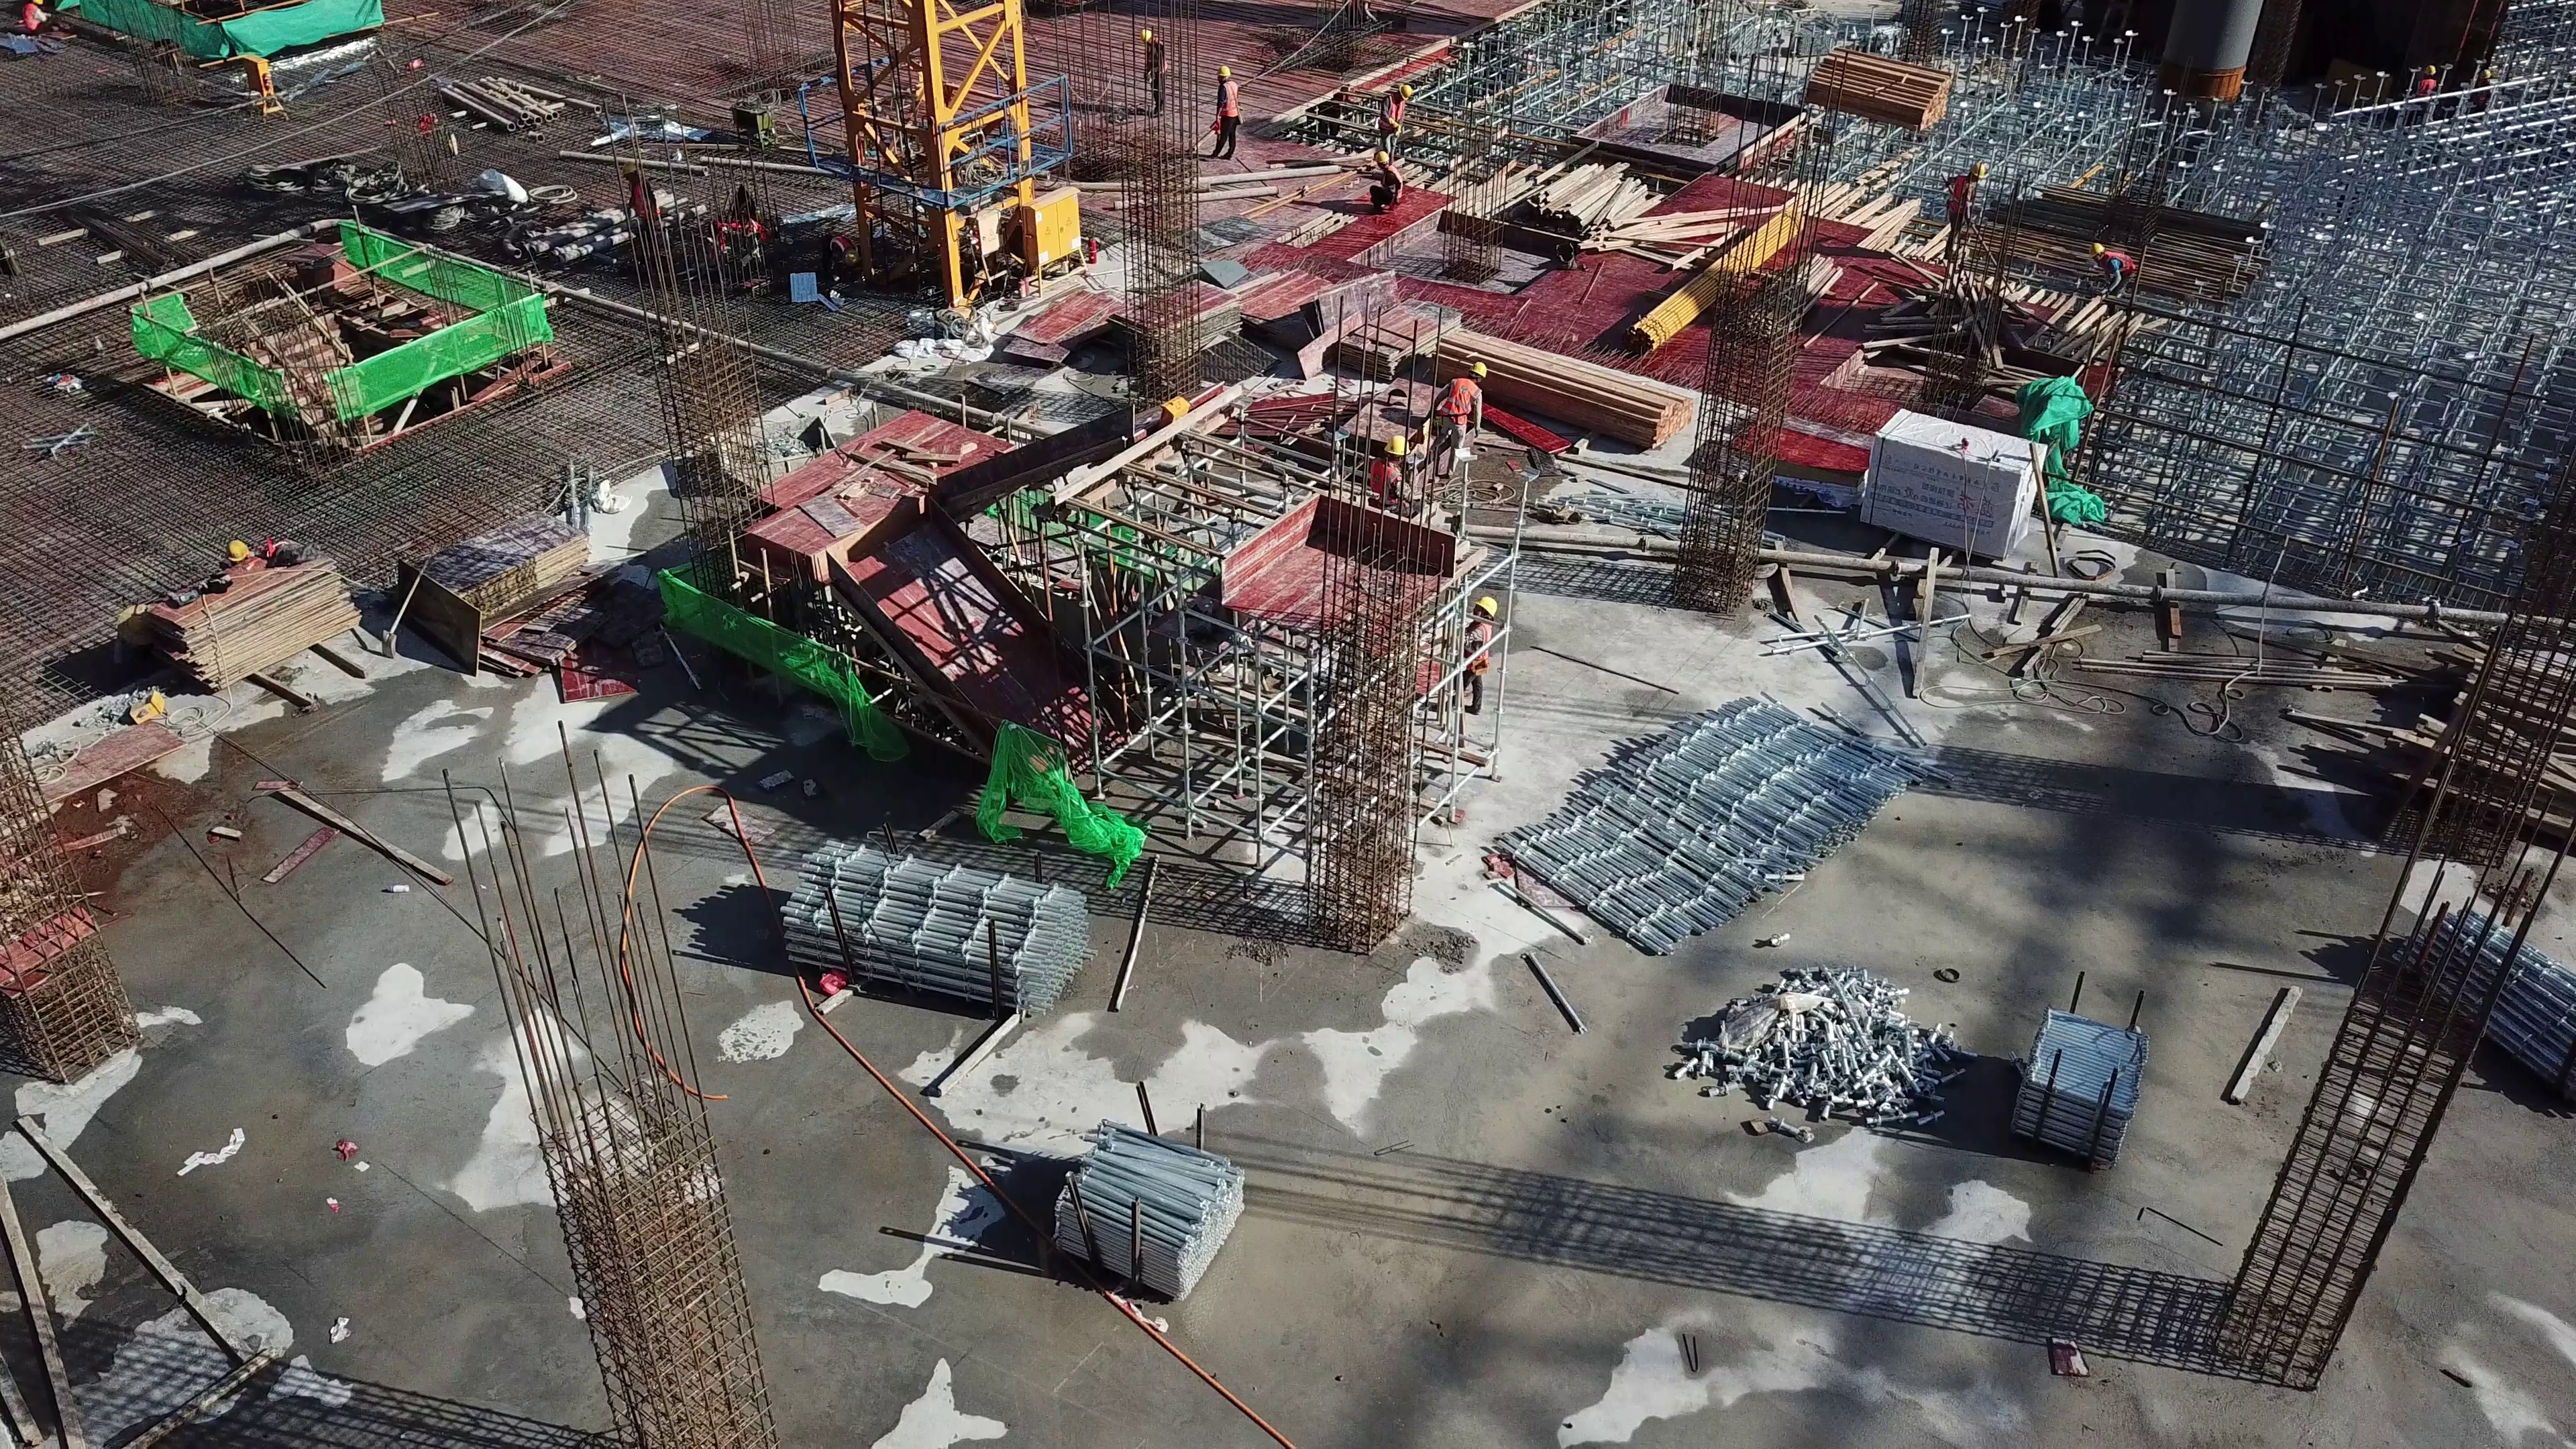board: (385, 506, 592, 686), (125, 543, 353, 692)
person: (1942, 150, 1989, 275), (1432, 360, 1490, 456), (2076, 240, 2141, 313), (1364, 424, 1417, 511), (1210, 50, 1242, 176), (1461, 596, 1496, 698), (1368, 144, 1411, 208), (1132, 21, 1167, 97), (618, 167, 650, 240), (1383, 83, 1426, 126)
scaffold: (1490, 675, 1931, 975), (790, 838, 1093, 1030), (1038, 1138, 1248, 1311), (2400, 900, 2576, 1105), (2018, 998, 2161, 1179)
wood: (1420, 339, 1712, 459), (1517, 170, 1747, 278)
